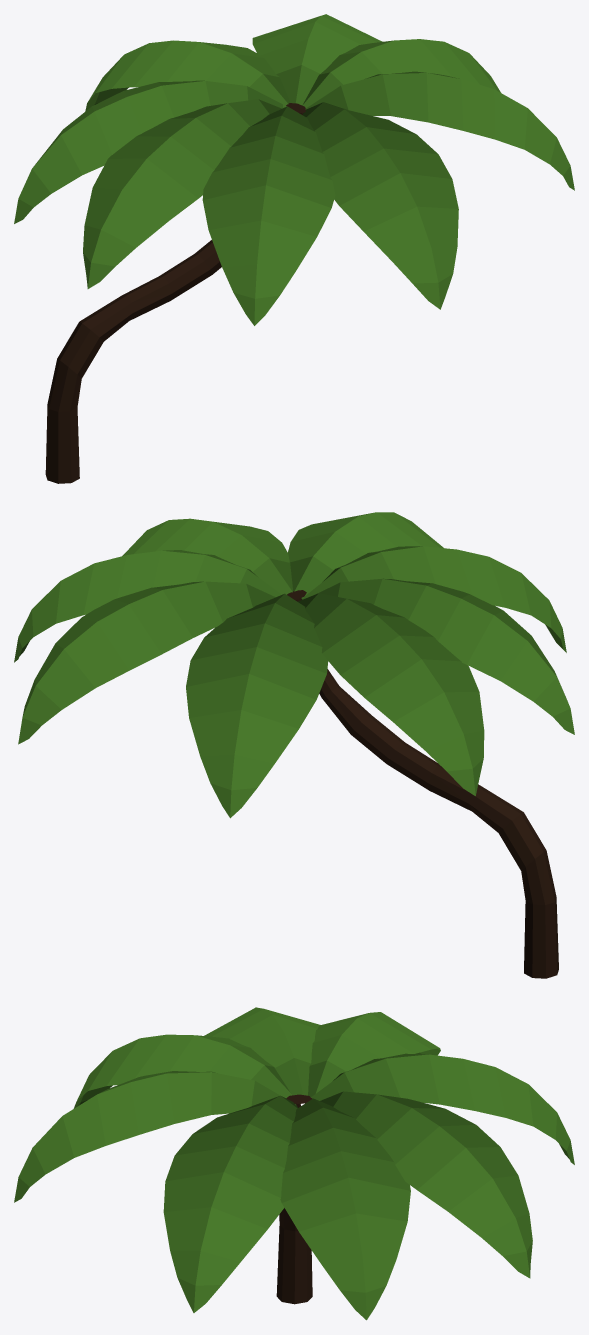
Rendered from PalmeraSeparada1.fbx.
3 renders of one model, top to bottom at view 1: azimuth 30°, elevation 25°; view 2: azimuth 150°, elevation 25°; view 3: azimuth 270°, elevation 25°, orthographic. The views are drawn at different scales.
Parts seen in each view (by area): view 1: Object004, Object003, Object005, Object010, Object006, Tronco, Object007, Object009, Object008; view 2: Object007, Object006, Object008, Object005, Tronco, Object009, Object004, Object003, Object010; view 3: Object009, Object010, Object008, Object003, Object007, Object004, Object006, Object005, Tronco.
Part boxes in pixels (<box>): Object004: <box>202,106,335,325</box>; Object003: <box>302,102,458,309</box>; Object005: <box>83,99,281,288</box>; Object010: <box>305,71,574,190</box>; Object006: <box>14,80,283,223</box>; Tronco: <box>45,103,305,483</box>; Object007: <box>85,40,290,111</box>; Object009: <box>302,39,500,107</box>; Object008: <box>252,14,382,105</box>; Object007: <box>186,593,328,818</box>; Object006: <box>298,593,484,795</box>; Object008: <box>18,581,275,744</box>; Object005: <box>317,578,574,734</box>; Tronco: <box>287,590,558,978</box>; Object009: <box>14,550,281,662</box>; Object004: <box>301,546,566,652</box>; Object003: <box>288,512,443,598</box>; Object010: <box>122,518,292,594</box>; Object009: <box>280,1098,410,1320</box>; Object010: <box>163,1095,297,1312</box>; Object008: <box>320,1091,532,1278</box>; Object003: <box>14,1071,295,1202</box>; Object007: <box>310,1053,574,1164</box>; Object004: <box>73,1034,292,1108</box>; Object006: <box>308,1012,440,1096</box>; Object005: <box>204,1007,320,1095</box>; Tronco: <box>276,1094,312,1304</box>.
Size of the model in its own units: 408 by 268 by 396.
